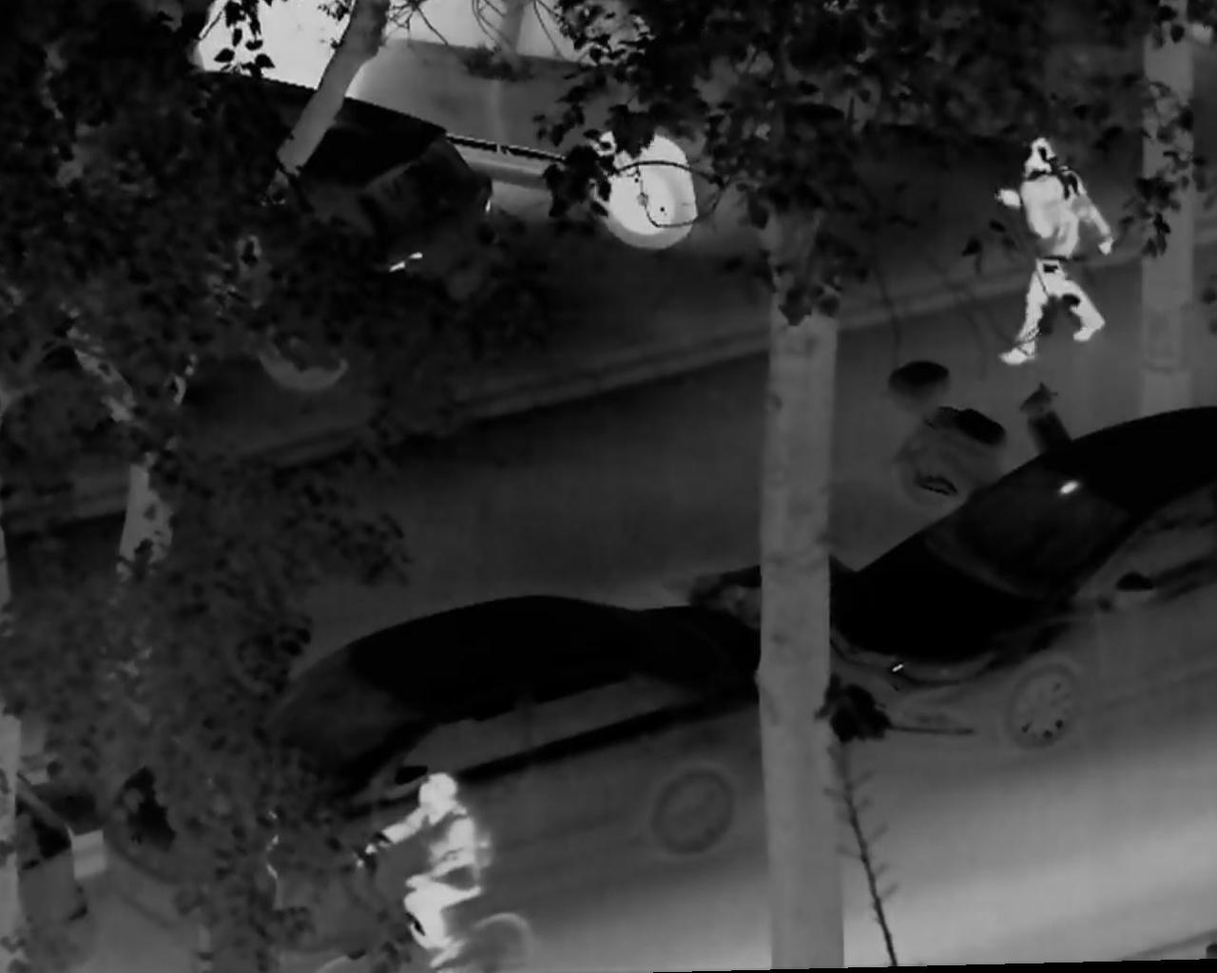person: (992, 127, 1116, 367), (349, 771, 492, 972)
